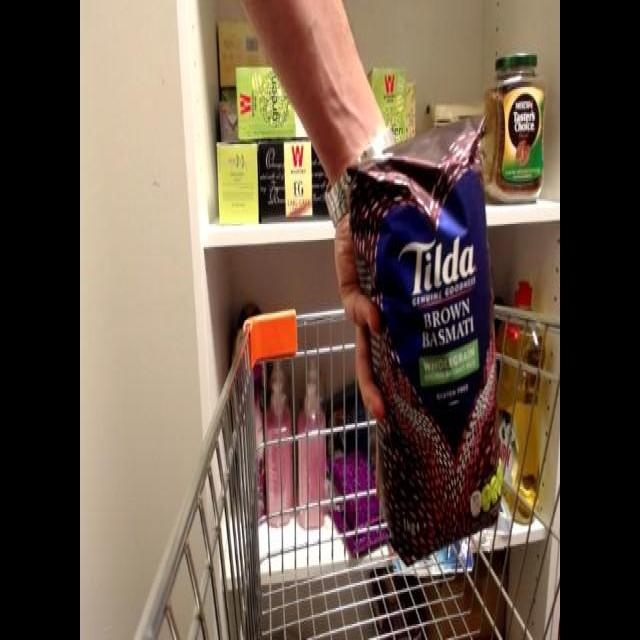Tida: (344, 103, 508, 558)
